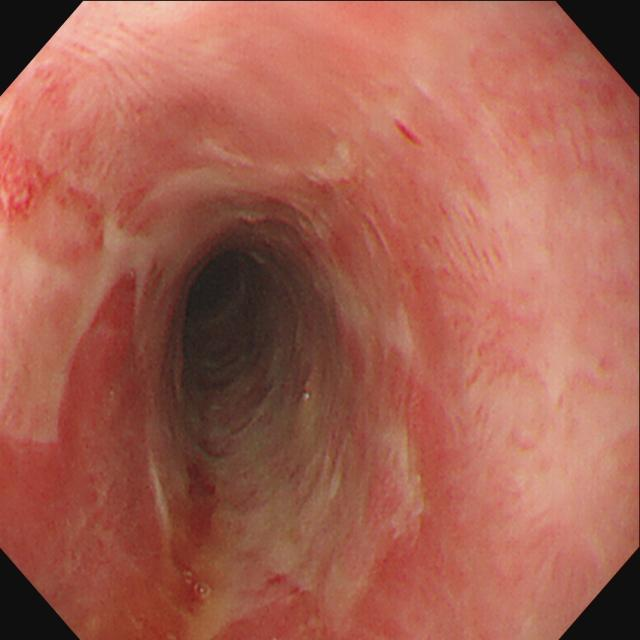A: (2, 139, 54, 229)
D: (34, 403, 151, 626)
E: (180, 251, 287, 394)
J: (204, 402, 426, 639), (498, 180, 627, 521), (2, 218, 150, 448)
